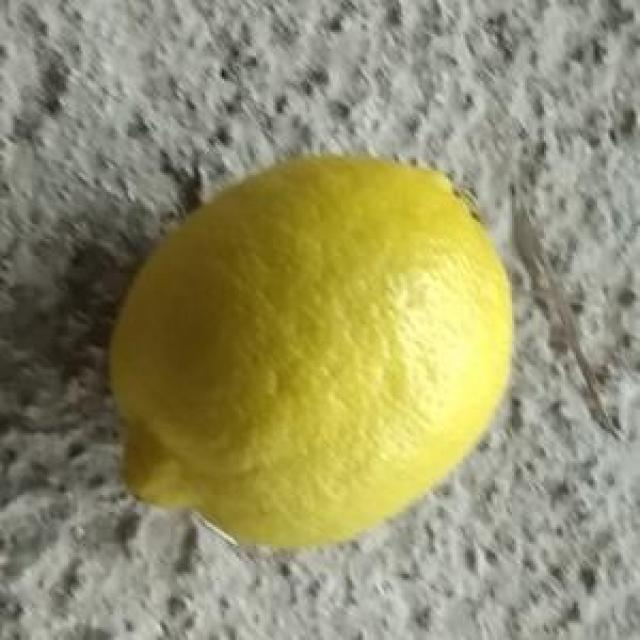lemon: (104, 148, 522, 552)
